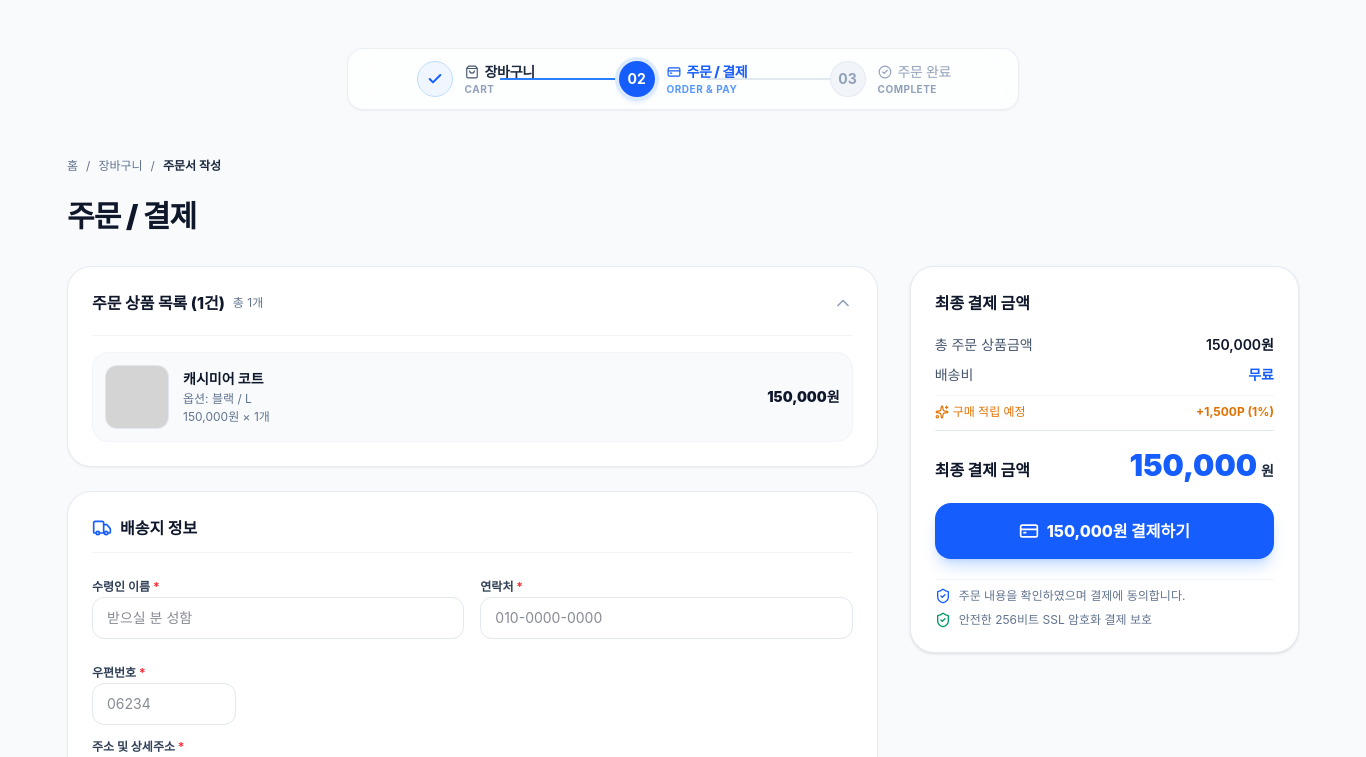
Scenario: CheckoutViewer Component › 필수 배송지 정보가 누락되면 에러 메시지를 표시하고 주문 제출을 중단한다
This screenshot has width=1366, height=757.
What coordinates should you click on to do the following:
click the button "150,000원 결제하기"
I would click on:
 (1104, 531)
Its box is [935,503,1274,559].
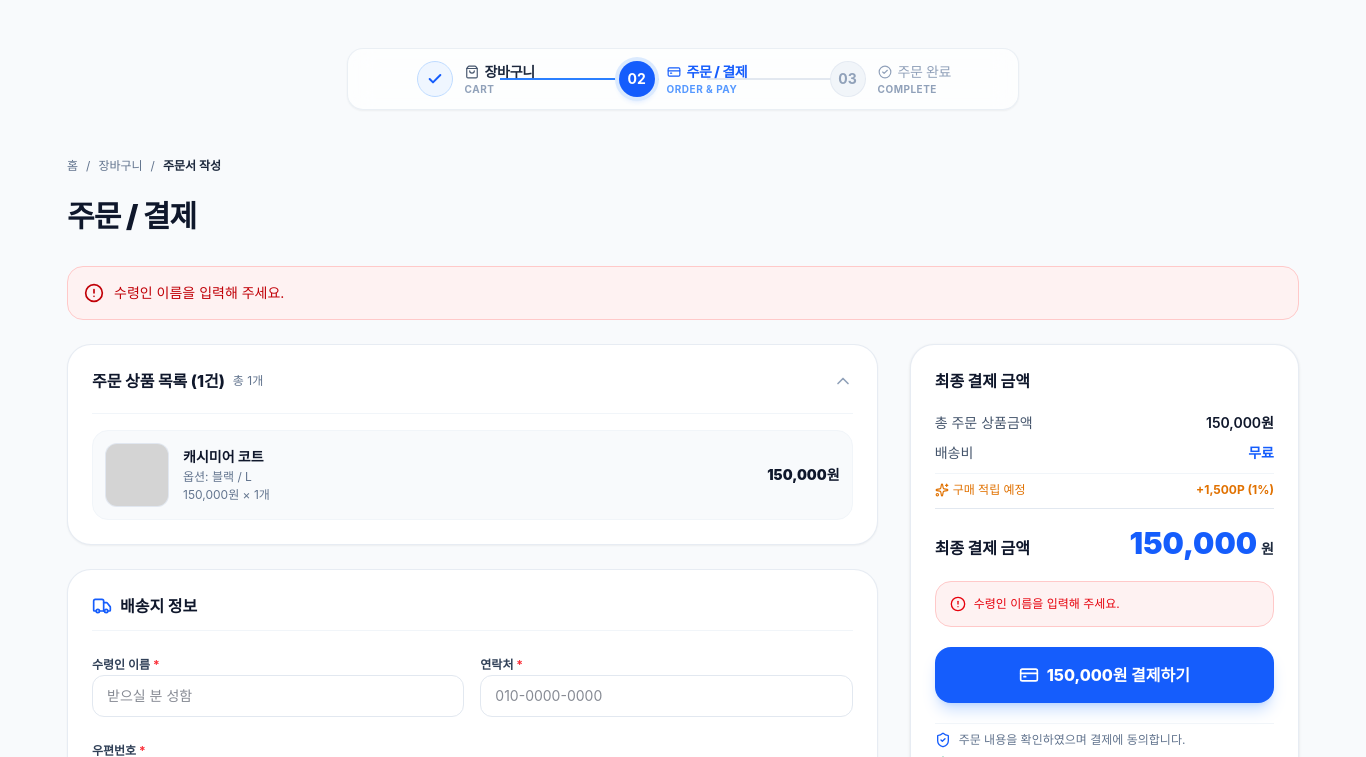
Result: the 1st text "수령인 이름을 입력해 주세요." is shown at [114,283,284,303]
